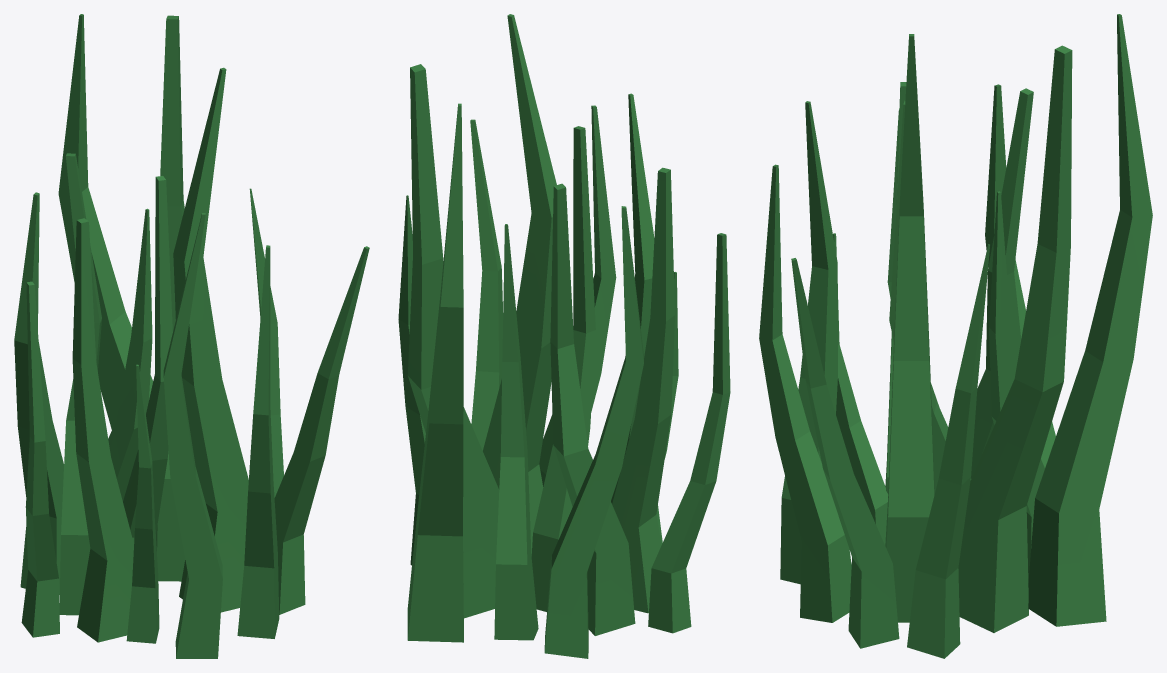
The model's file is Grass06.fbx.
3 renders of one model, left to right at view 1: azimuth 30°, elevation 25°; view 2: azimuth 150°, elevation 25°; view 3: azimuth 270°, elevation 25°, orthographic. The views are drawn at different scales.
Parts seen in each view (by area): view 1: Grass_06; view 2: Grass_06; view 3: Grass_06.
Part boxes in pixels (x1,y1,x2,y2): Grass_06: (14,14,369,658); Grass_06: (398,14,730,658); Grass_06: (759,14,1152,658).
Size of the model in its own units: 27.65 by 48.34 by 29.56.
